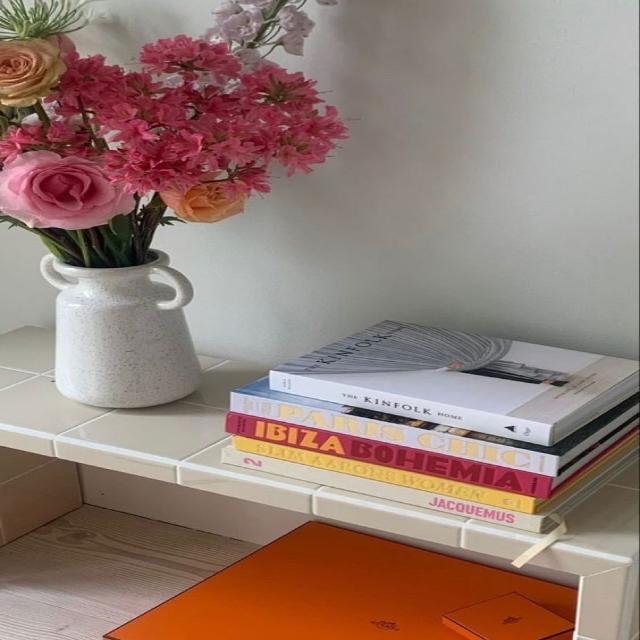book: (223, 413, 552, 499), (229, 391, 558, 476), (224, 451, 544, 533), (233, 435, 536, 515), (270, 369, 553, 446)
flowers: (0, 0, 344, 408)
